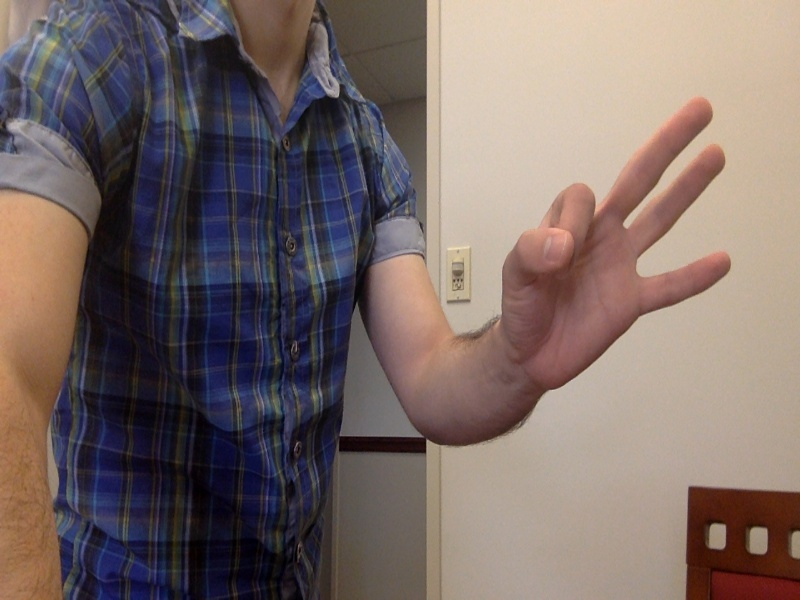3-hand: (501, 97, 736, 392)
